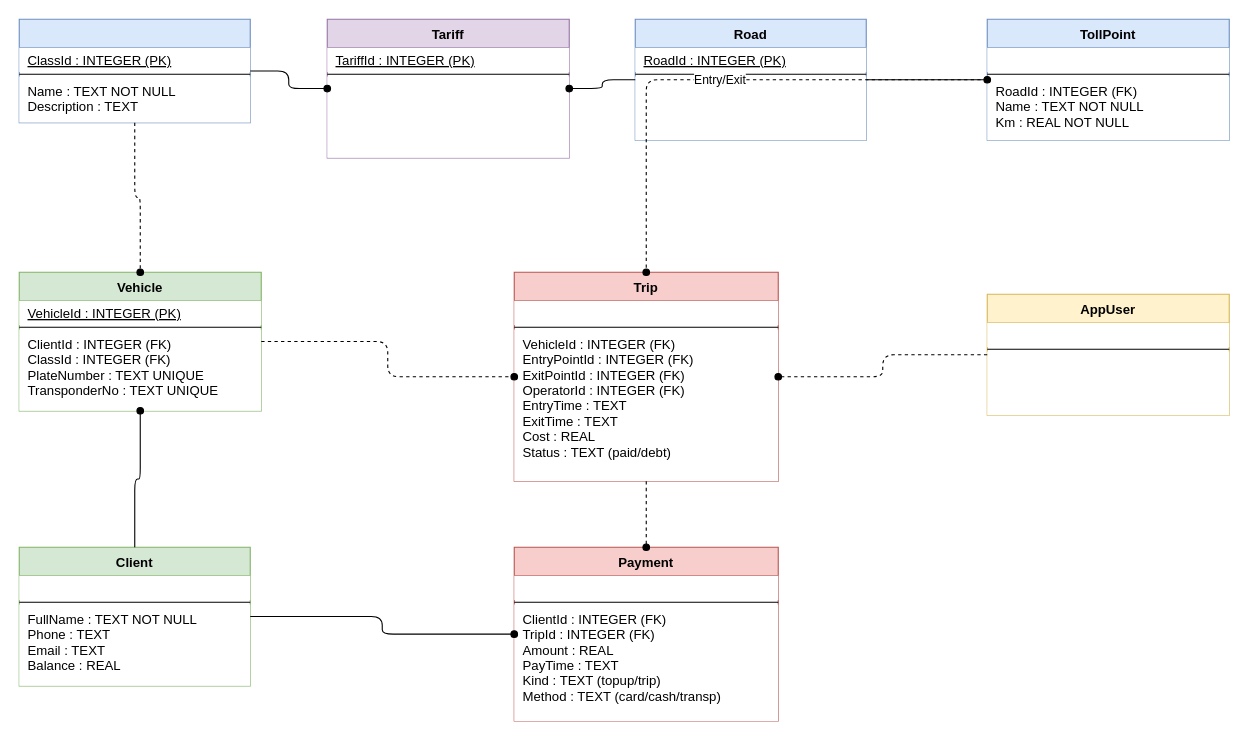
The diagram is 1249 pixels wide and 740 high, and some of its shapes have lost their labels. The shapes that lost their labels are listed below. From the top down, each one's box as (x1, y1, x2, y2) in pixels, then its label:
(18, 18, 250, 123): VehicleClass
(987, 47, 1229, 72): PointId : INTEGER (PK)
(327, 76, 569, 157): RoadId : INTEGER (FK) ClassId : INTEGER (FK) PricePerKm : REAL ValidFrom : TEXT
(635, 76, 866, 140): Code : TEXT UNIQUE Name : TEXT NOT NULL LengthKm : REAL
(514, 300, 778, 324): TripId : INTEGER (PK)
(987, 322, 1229, 346): UserId : INTEGER (PK)
(987, 351, 1229, 415): Login : TEXT UNIQUE PasswordHash : TEXT Role : TEXT (admin/operator/acc)
(19, 575, 250, 600): ClientId : INTEGER (PK)
(514, 575, 778, 600): PaymentId : INTEGER (PK)
